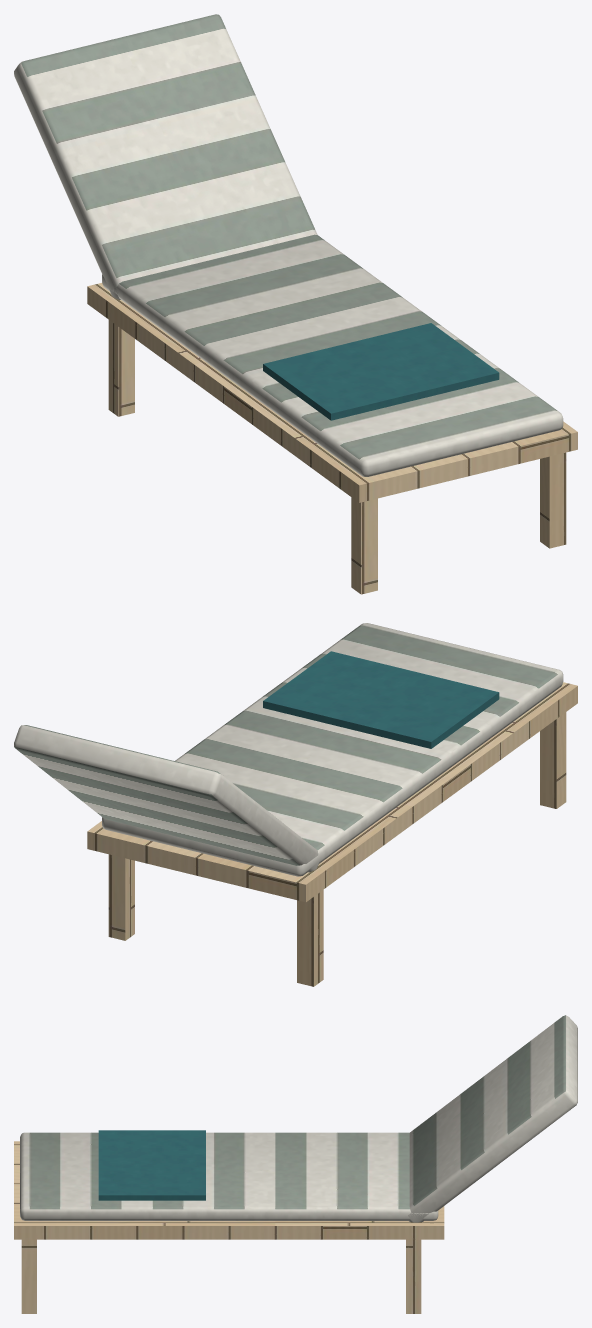
3 views of the same model, one above another, from view 1: azimuth 30°, elevation 25°; view 2: azimuth 150°, elevation 25°; view 3: azimuth 270°, elevation 25° (orthographic). The views are drawn at different scales.
Parts seen in each view (by area): view 1: Decor_sun_lounger; view 2: Decor_sun_lounger; view 3: Decor_sun_lounger.
Part boxes in pixels (x1,y1,x2,y2): Decor_sun_lounger: (14,14,577,594); Decor_sun_lounger: (14,623,577,986); Decor_sun_lounger: (14,1015,577,1313).
Bounding box in the file's own units: 0.65 × 0.7956 × 1.83.
3 materials, 3 textured.
